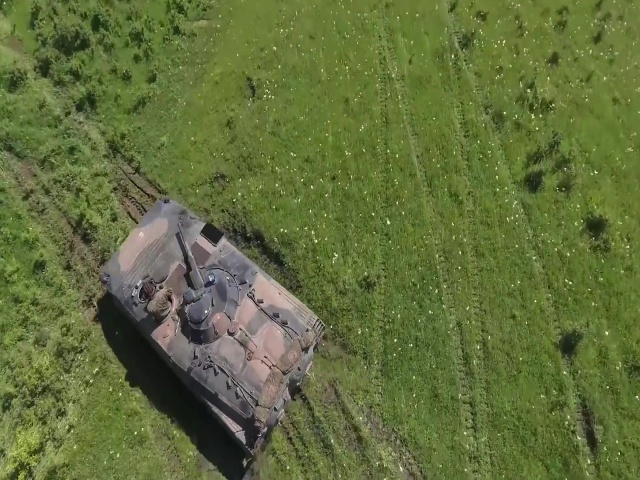vehicle: (97, 195, 327, 455)
